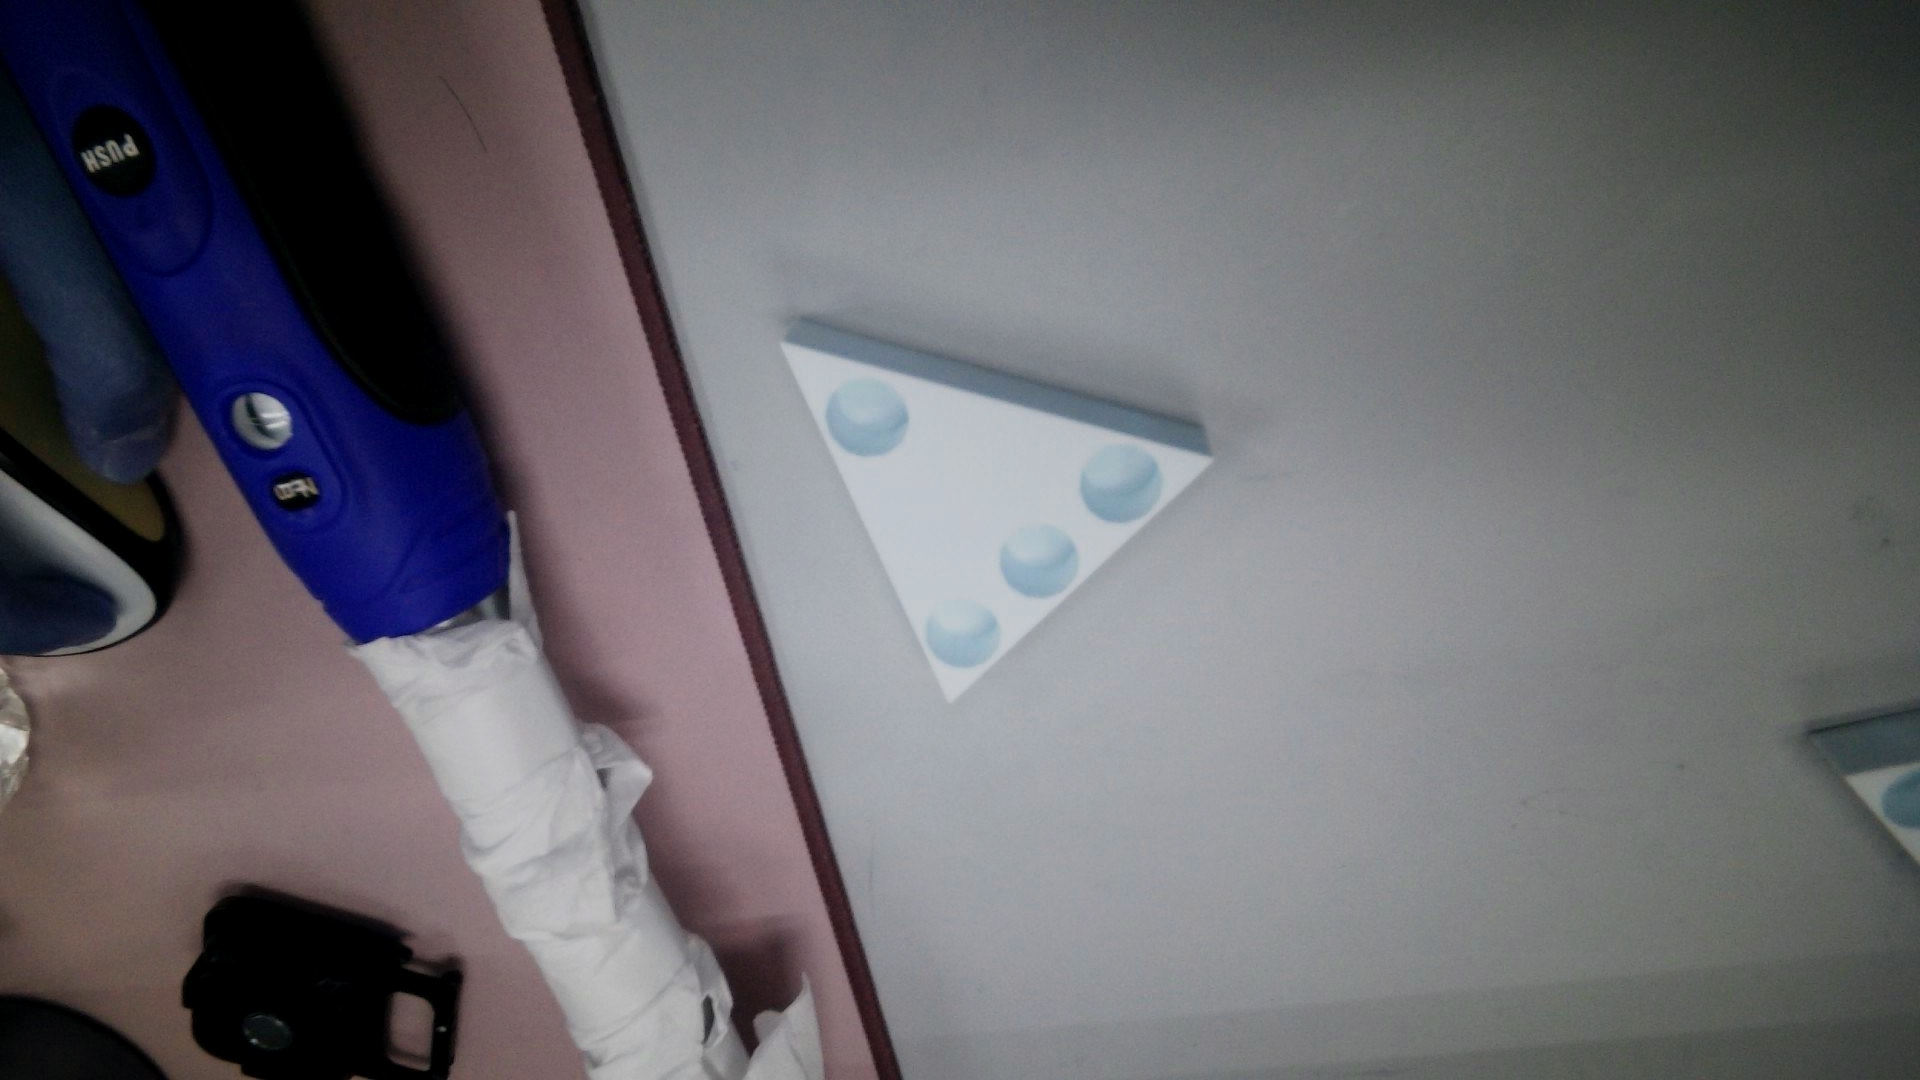hole: (818, 361, 913, 465), (1080, 434, 1168, 521), (1001, 516, 1083, 596), (919, 591, 1002, 669)
obj: (769, 289, 1229, 713)
